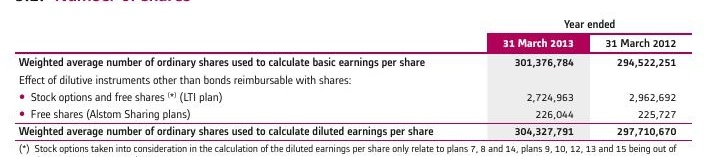table: (0, 0, 708, 157)
